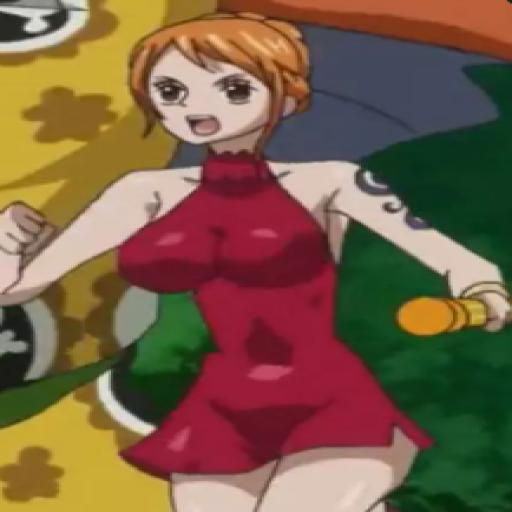Nami: (1, 7, 512, 511)
